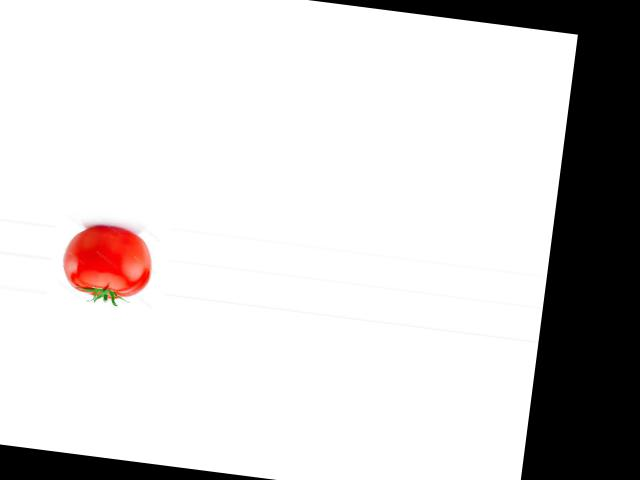tomato: (59, 223, 156, 302)
